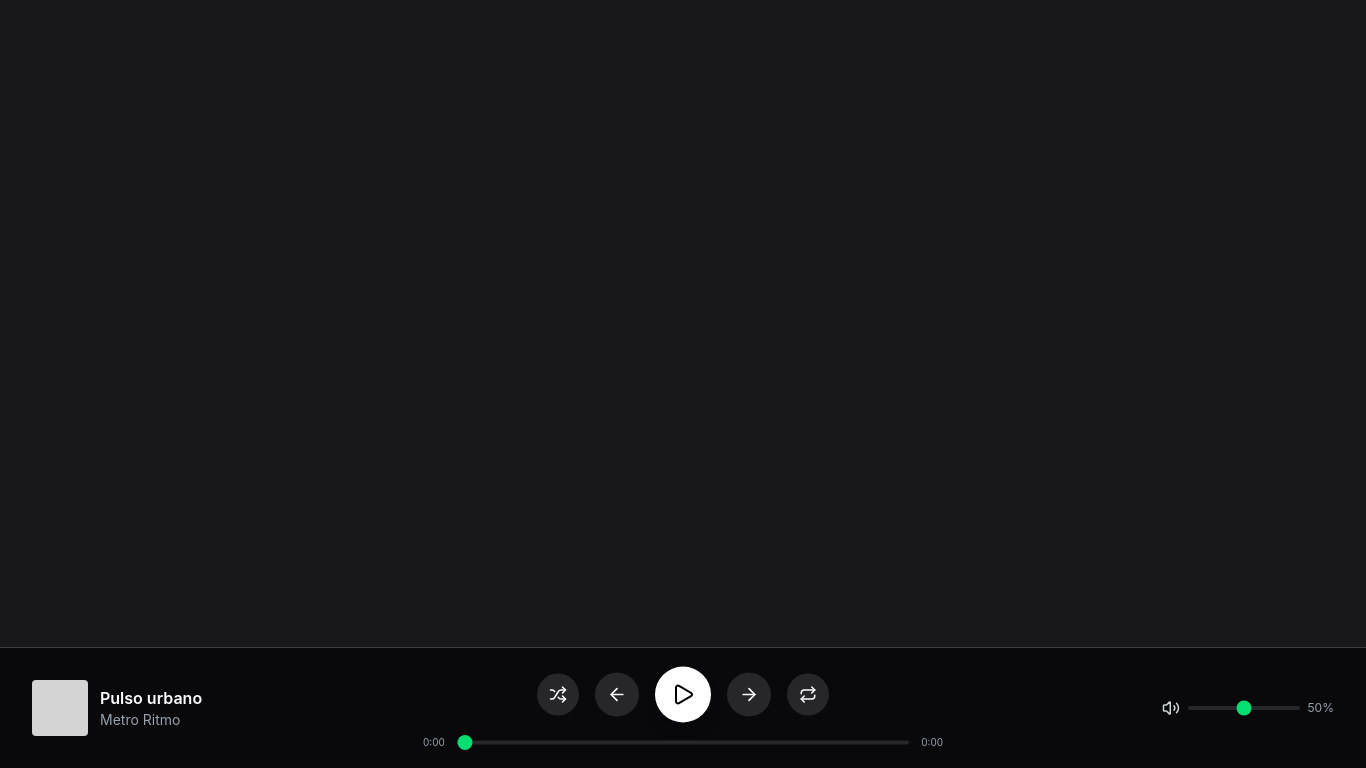
Player › reproduce audio cuando se pulsa play y cambia a pausar
Click the button titled "Reproducir" at (683, 694), box [655, 666, 711, 722]
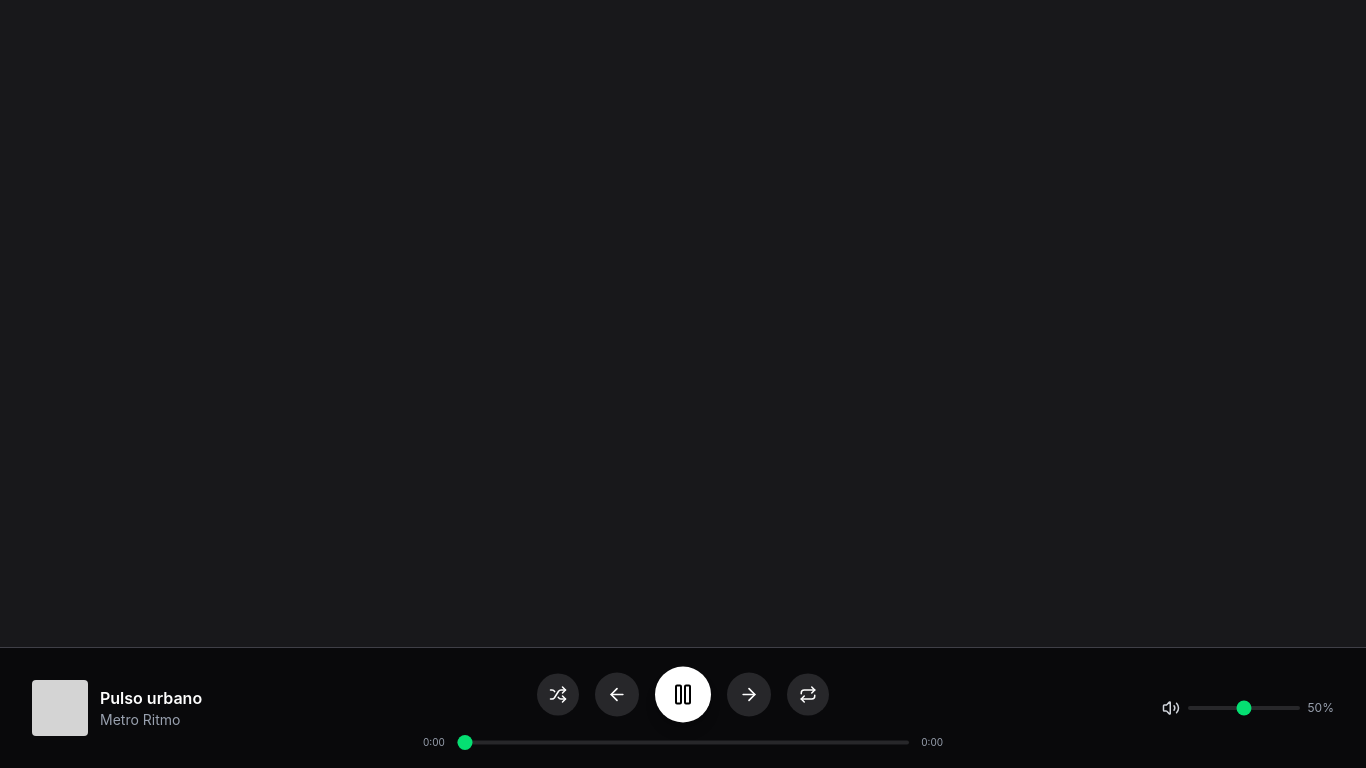
Now the button titled "Pausar" is shown, box [655, 666, 711, 722]
